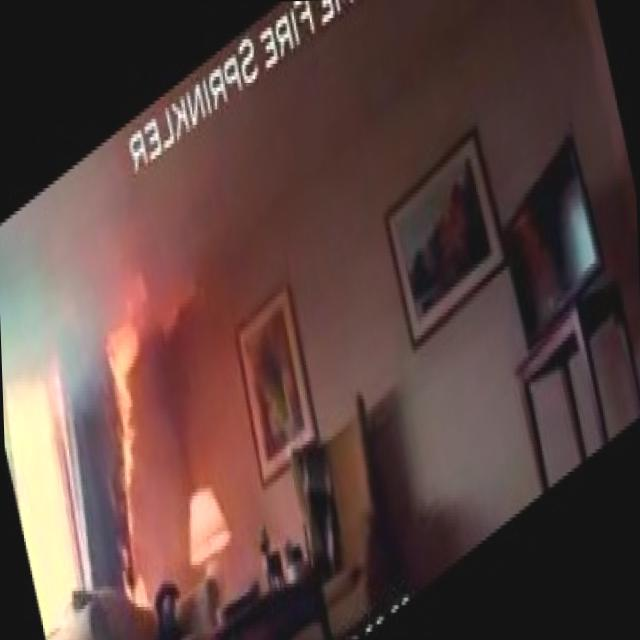fire: (47, 218, 212, 620)
